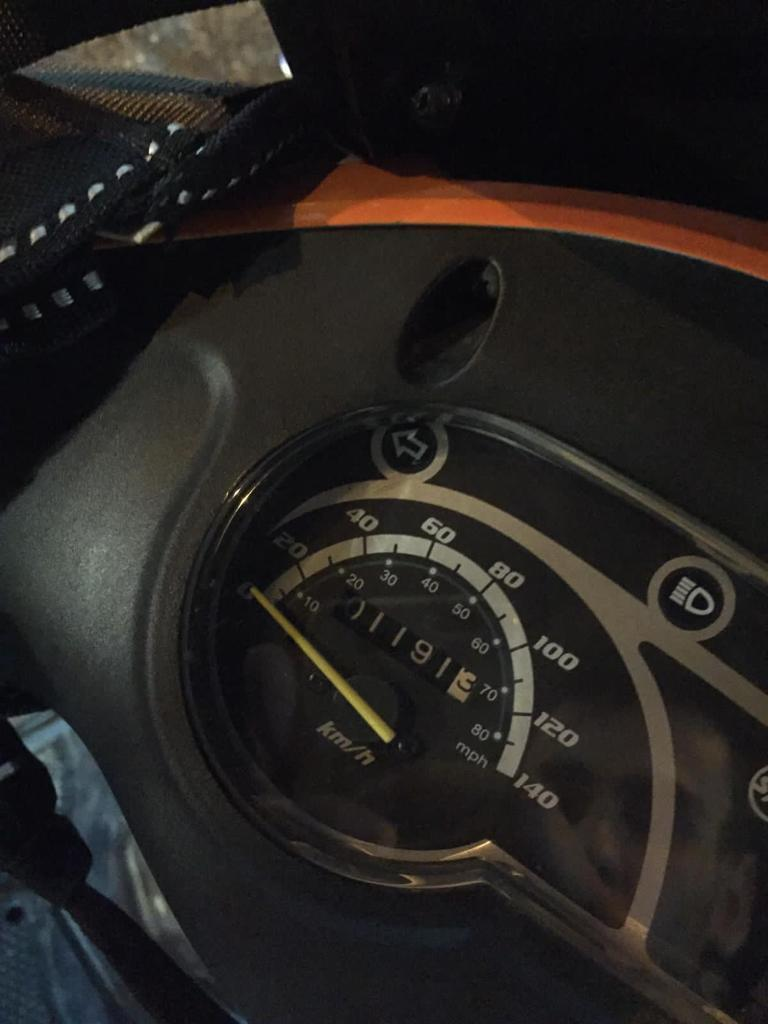0: (342, 593, 366, 621)
1: (367, 610, 384, 633), (433, 656, 450, 678), (390, 625, 405, 647)
3: (455, 666, 478, 693)
9: (410, 638, 432, 665)
odometer: (332, 586, 482, 708)
